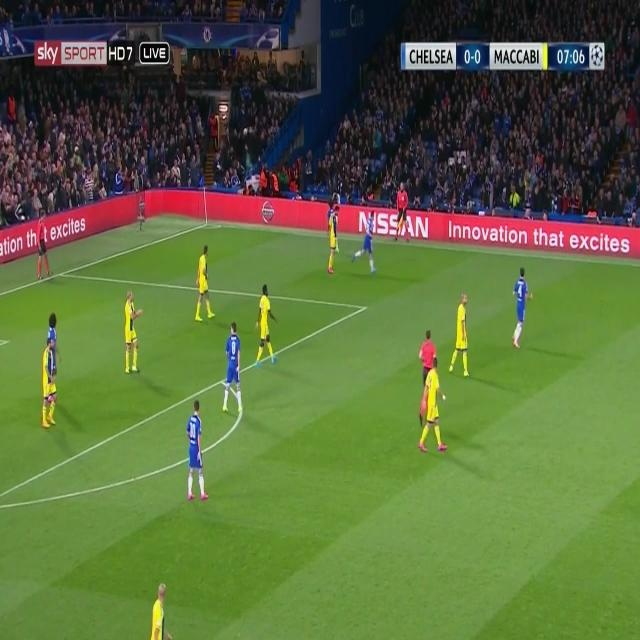Player: (184, 399, 212, 505), (419, 357, 448, 458), (252, 282, 279, 371), (222, 321, 246, 416), (448, 293, 472, 383), (510, 266, 534, 351), (193, 242, 217, 324), (123, 290, 145, 378), (351, 208, 379, 277), (38, 337, 58, 432), (149, 580, 173, 640), (326, 200, 342, 278), (46, 307, 63, 377)
Referee: (418, 329, 436, 423), (35, 209, 54, 281), (393, 180, 411, 246)
